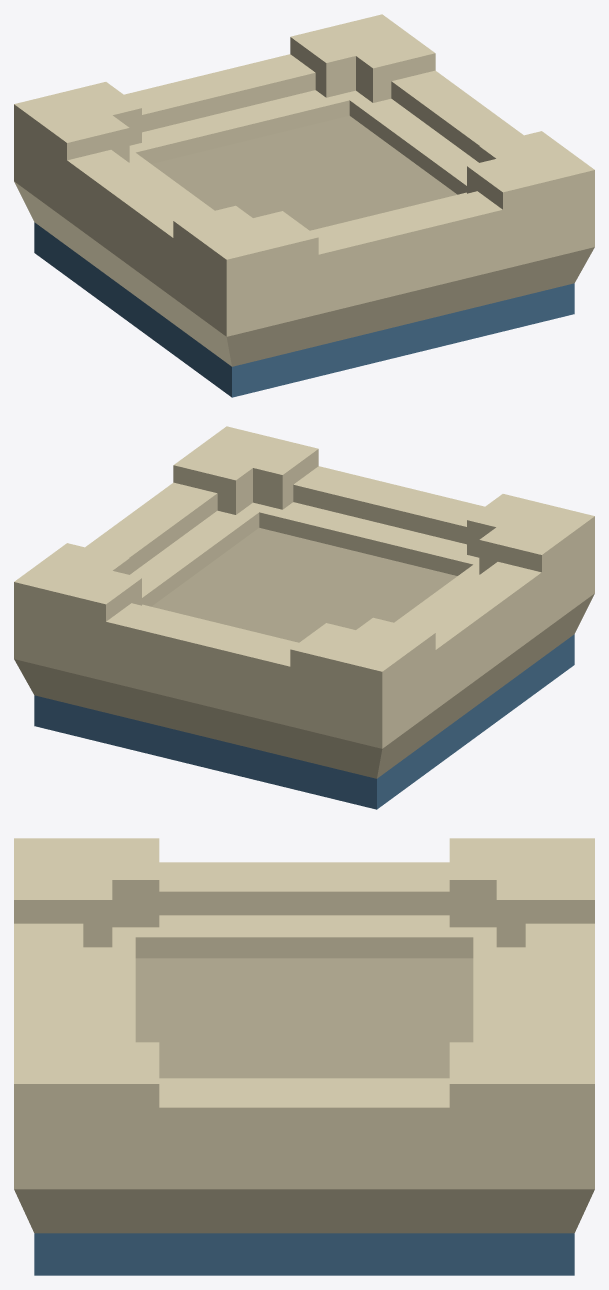
File: towerSquareTopColor.obj
The picture shows the model from 3 angles, top to bottom: view 1: azimuth 30°, elevation 25°; view 2: azimuth 150°, elevation 25°; view 3: azimuth 270°, elevation 25°; orthographic projection. The views are drawn at different scales.
Parts seen in each view (by area): view 1: towerSquareTopColor; view 2: towerSquareTopColor; view 3: towerSquareTopColor.
Boxes of the visible parts, box(x1,y1,x2,y2) form: towerSquareTopColor: box(14, 14, 594, 397); towerSquareTopColor: box(14, 426, 594, 809); towerSquareTopColor: box(14, 838, 594, 1275).
Bounding box in the file's own units: 10 × 3.8 × 10.
